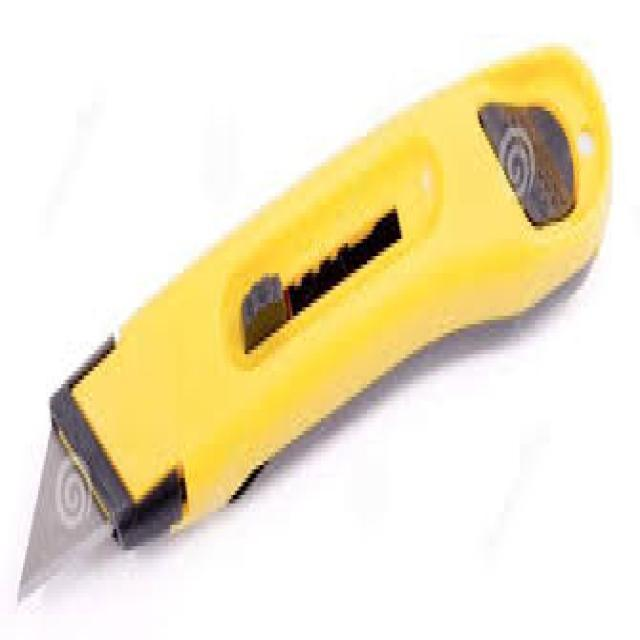cutter: (9, 42, 615, 610)
